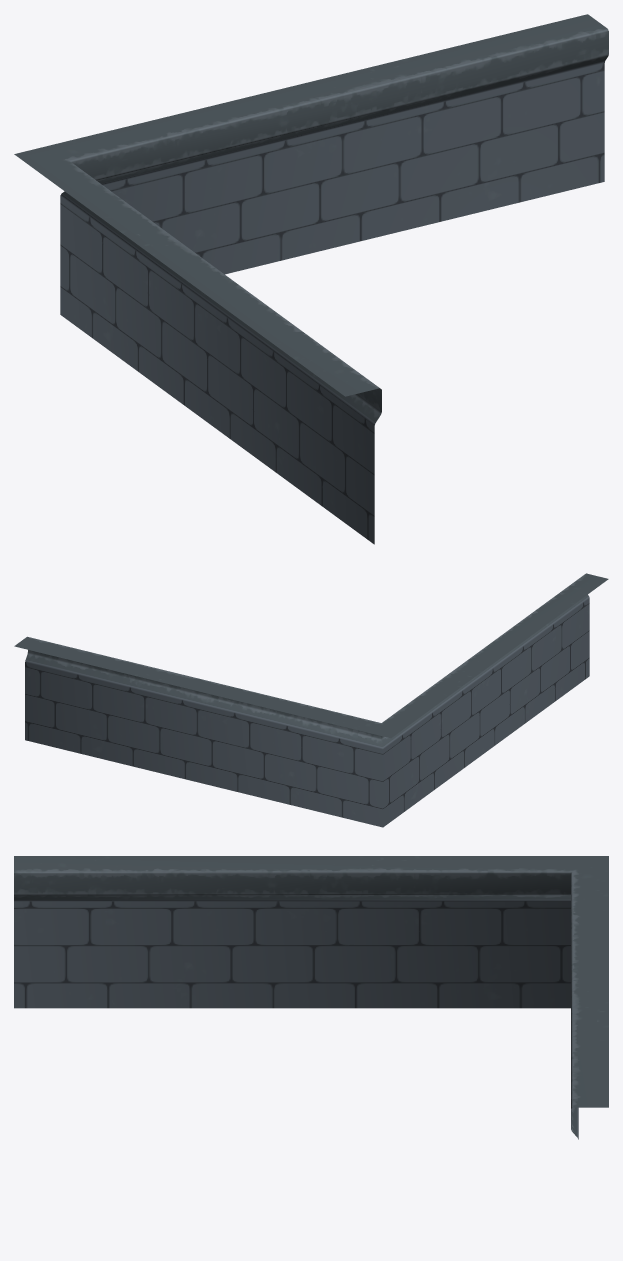
Rendered from Skirt_Corner.fbx.
3 renders of one model, top to bottom at view 1: azimuth 30°, elevation 25°; view 2: azimuth 150°, elevation 25°; view 3: azimuth 270°, elevation 25°, orthographic. The views are drawn at different scales.
Parts seen in each view (by area): view 1: Skirt_Corner; view 2: Skirt_Corner; view 3: Skirt_Corner.
Boxes of the visible parts, left/top/right/bottom form: Skirt_Corner: left=14, top=14, right=608, bottom=544; Skirt_Corner: left=14, top=573, right=608, bottom=827; Skirt_Corner: left=14, top=856, right=608, bottom=1139.
Bounding box in the file's own units: 500 × 129 × 500.
1 material, 1 textured.
